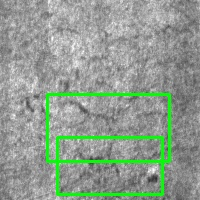crazing: (47, 94, 169, 161), (57, 137, 162, 194)
